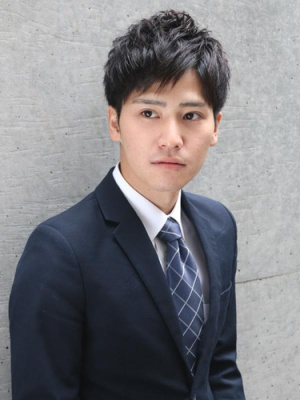male: (101, 10, 235, 204)
